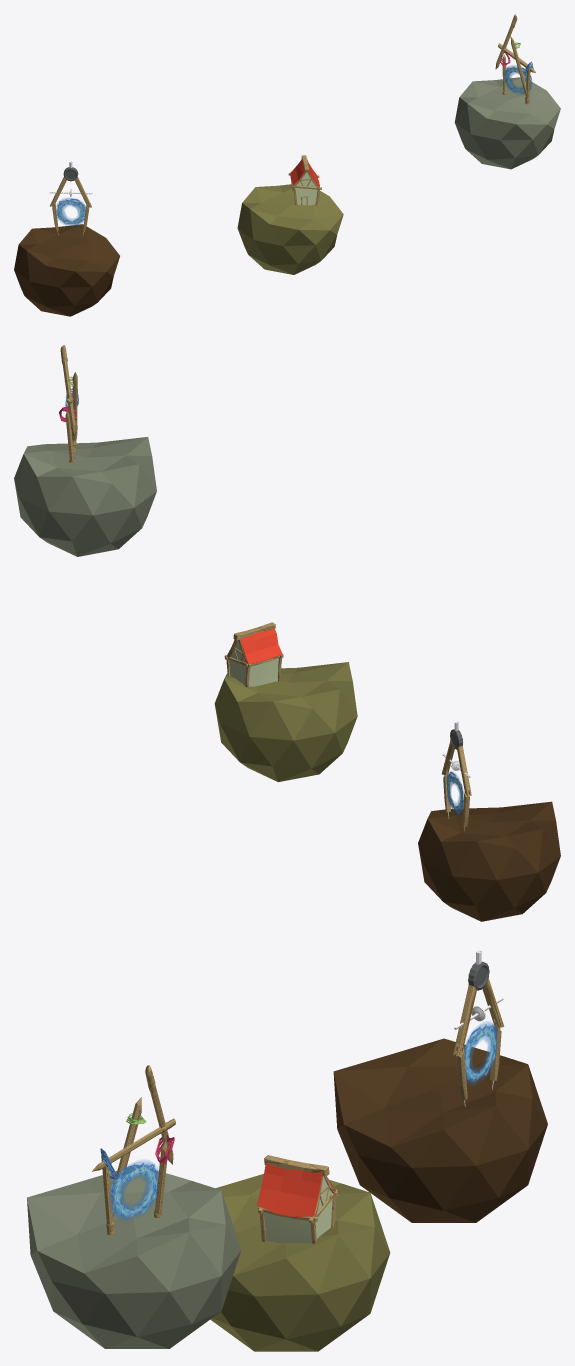
Rendered from Erstes_Haus.gltf.
3 renders of one model, top to bottom at view 1: azimuth 30°, elevation 25°; view 2: azimuth 150°, elevation 25°; view 3: azimuth 270°, elevation 25°, orthographic. The views are drawn at different scales.
Parts seen in each view (by area): view 1: Icosphere.002, Icosphere.001, Icosphere, Portal1, Plane, Portal2; view 2: Icosphere.001, Icosphere.002, Icosphere, Dach links; view 3: Icosphere.002, Icosphere.001, Icosphere, Plane.004, Portal2, Portal1, Plane.002, Cube.026, Cube.025, Cylinder.004, Cylinder.005, Cube.019 (+4 smaller).
Boxes of the visible parts, x1,y1,x2,y2 form: Icosphere.002: [14, 224, 119, 316]; Icosphere.001: [454, 77, 560, 169]; Icosphere: [237, 184, 343, 274]; Portal1: [56, 198, 85, 226]; Plane: [295, 172, 317, 205]; Portal2: [503, 65, 532, 94]; Icosphere.001: [14, 437, 156, 556]; Icosphere.002: [418, 801, 560, 921]; Icosphere: [214, 662, 357, 782]; Dach links: [240, 628, 282, 664]; Icosphere.002: [333, 1038, 547, 1222]; Icosphere.001: [27, 1164, 241, 1348]; Icosphere: [210, 1174, 390, 1351]; Plane.004: [257, 1163, 322, 1216]; Portal2: [109, 1160, 158, 1221]; Portal1: [464, 1021, 497, 1084]; Plane.002: [264, 1212, 311, 1243]; Cube.026: [453, 978, 504, 1056]; Cube.025: [456, 1020, 501, 1100]; Cylinder.004: [145, 1065, 173, 1164]; Cylinder.005: [111, 1097, 141, 1216]; Cube.019: [264, 1155, 329, 1176].
Bounding box in the file's own units: 225 × 124 × 113.
13 materials, 3 textured.
